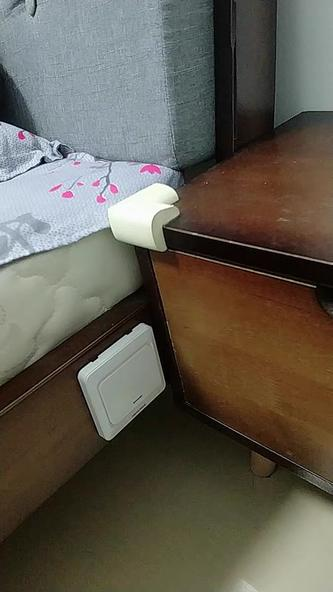switch: (87, 337, 163, 428)
